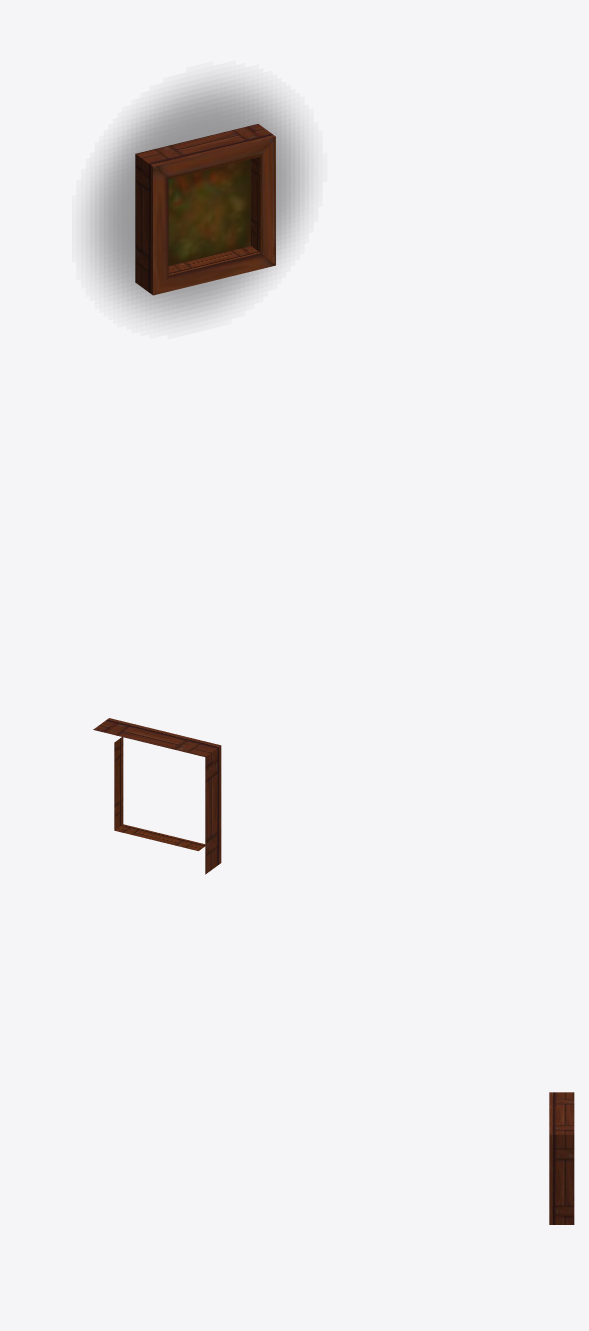
File: prop_snow_tree_large_woodbox_ur.glb
The picture shows the model from 3 angles, top to bottom: view 1: azimuth 30°, elevation 25°; view 2: azimuth 150°, elevation 25°; view 3: azimuth 270°, elevation 25°; orthographic projection. The views are drawn at different scales.
Visible parts, largest first — view 1: tree_planter_box3_1, shadow_snow_tree_large_woodbox_ur; view 2: tree_planter_box3_1; view 3: tree_planter_box3_1.
Boxes of the visible parts, x1,y1,x2,y2 form: tree_planter_box3_1: [135, 124, 275, 295]; shadow_snow_tree_large_woodbox_ur: [90, 82, 304, 318]; tree_planter_box3_1: [93, 718, 221, 874]; tree_planter_box3_1: [549, 1092, 574, 1224].
Bounding box in the file's own units: 13.99 × 12.32 × 29.17.
Materials: 4 (4 with a texture image).
